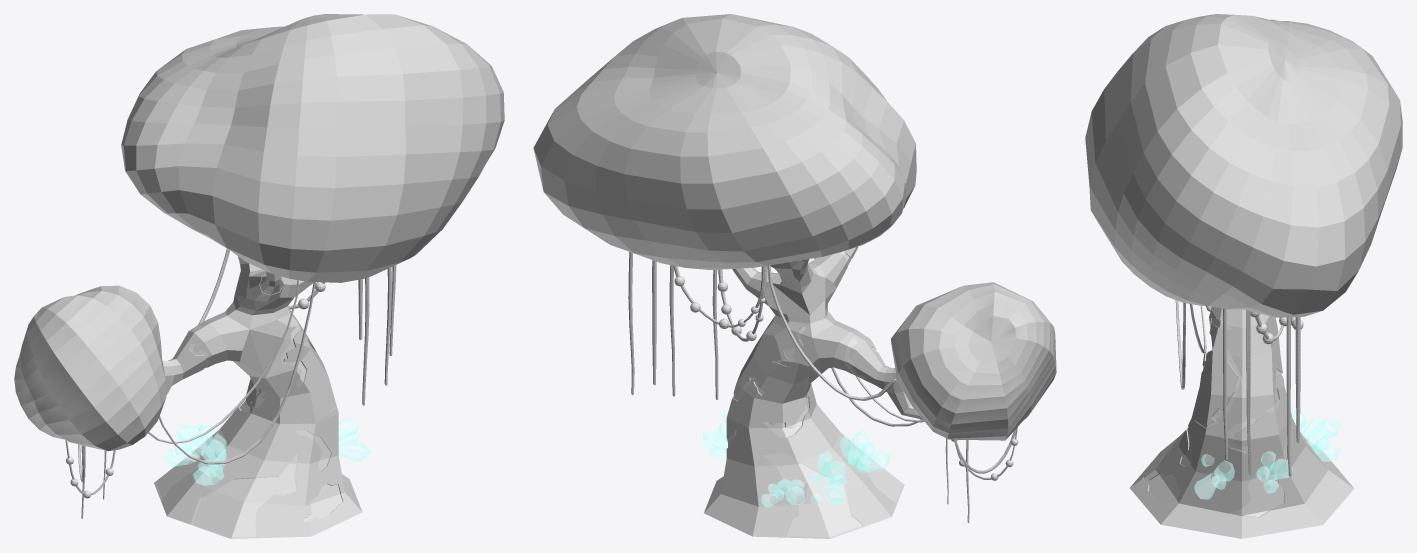
The model's file is Pohon_Utama.fbx.
The picture shows the model from 3 angles, left to right: view 1: azimuth 30°, elevation 25°; view 2: azimuth 150°, elevation 25°; view 3: azimuth 270°, elevation 25°; orthographic projection. The views are drawn at different scales.
Visible parts, largest first — view 1: Pohon_Utama; view 2: Pohon_Utama; view 3: Pohon_Utama.
Boxes of the visible parts, box(x1,y1,x2,y2) form: Pohon_Utama: box(14, 14, 504, 538); Pohon_Utama: box(533, 14, 1056, 538); Pohon_Utama: box(1085, 14, 1402, 538).
Bounding box in the file's own units: 984 × 912 × 526.
